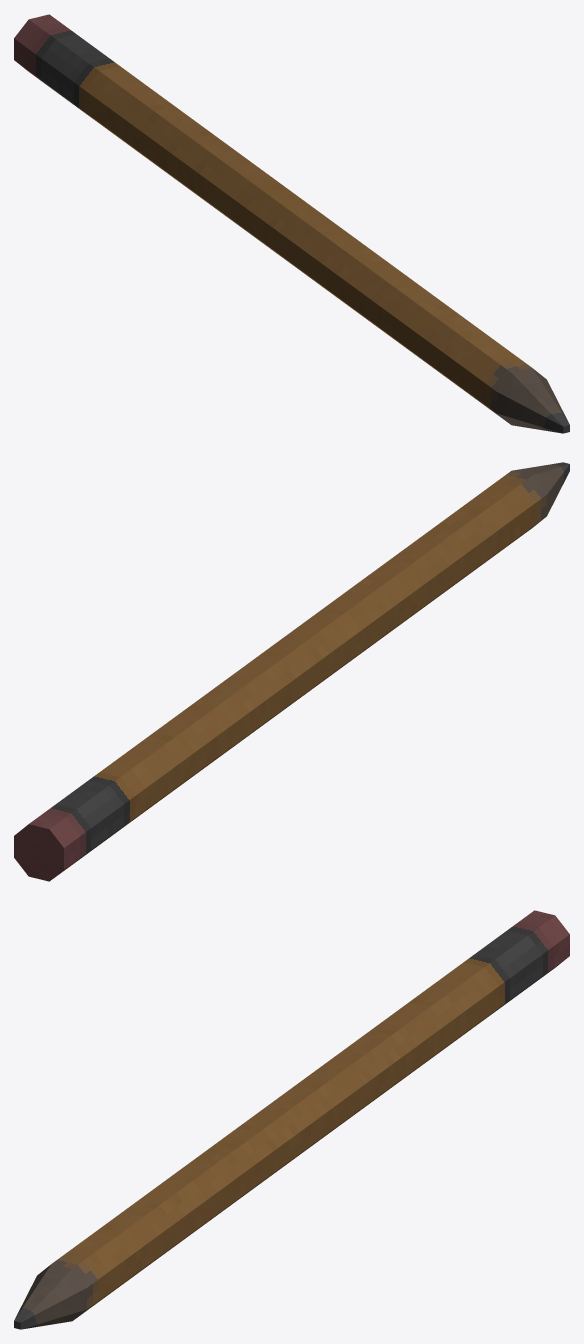
The model's file is pencil_mp_1.glb.
3 views of the same model, one above another, from view 1: azimuth 30°, elevation 25°; view 2: azimuth 150°, elevation 25°; view 3: azimuth 330°, elevation 25° (orthographic).
Parts seen in each view (by area): view 1: pencil_mp_1; view 2: pencil_mp_1; view 3: pencil_mp_1.
Part boxes in pixels (<box>): pencil_mp_1: <box>14,14,569,433</box>; pencil_mp_1: <box>14,462,569,881</box>; pencil_mp_1: <box>14,910,569,1329</box>.
Bounding box in the file's own units: 0.0129 × 0.0129 × 0.2362.
Materials: 1 (1 with a texture image).
